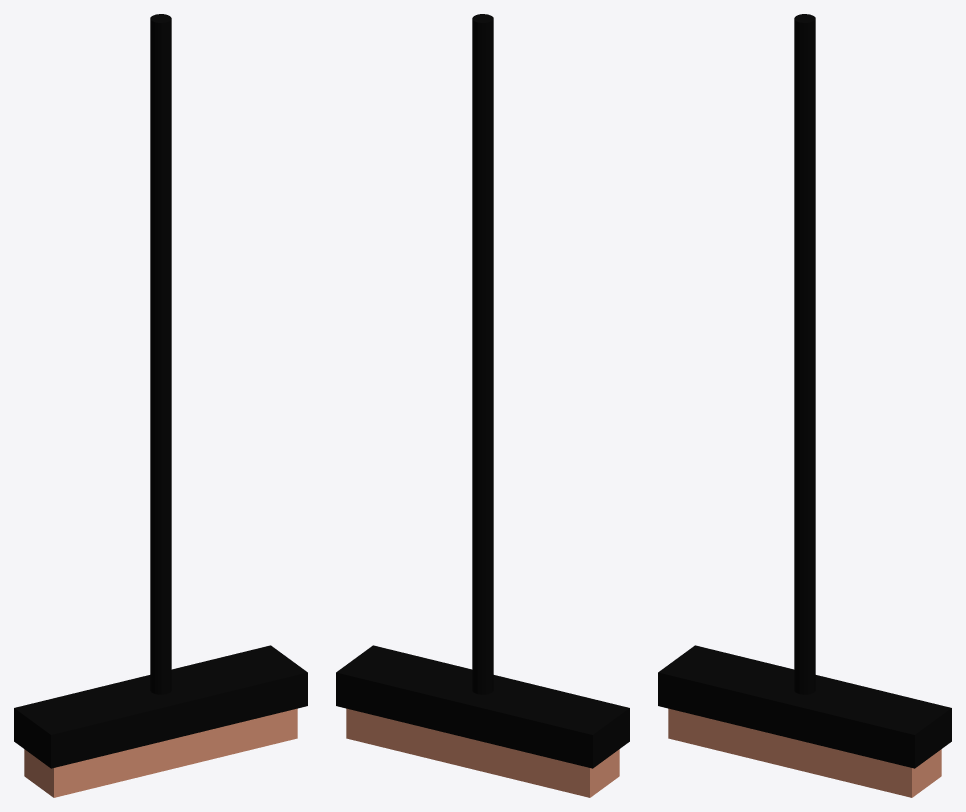
The model's file is balai 1.fbx.
3 renders of one model, left to right at view 1: azimuth 30°, elevation 25°; view 2: azimuth 150°, elevation 25°; view 3: azimuth 330°, elevation 25°, orthographic.
Visible parts, largest first — view 1: Balai; view 2: Balai; view 3: Balai.
Boxes of the visible parts, x1,y1,x2,y2 form: Balai: (14, 14, 307, 797); Balai: (336, 14, 629, 797); Balai: (658, 14, 951, 797).
Size of the model in its own units: 400 by 1100 by 100.
